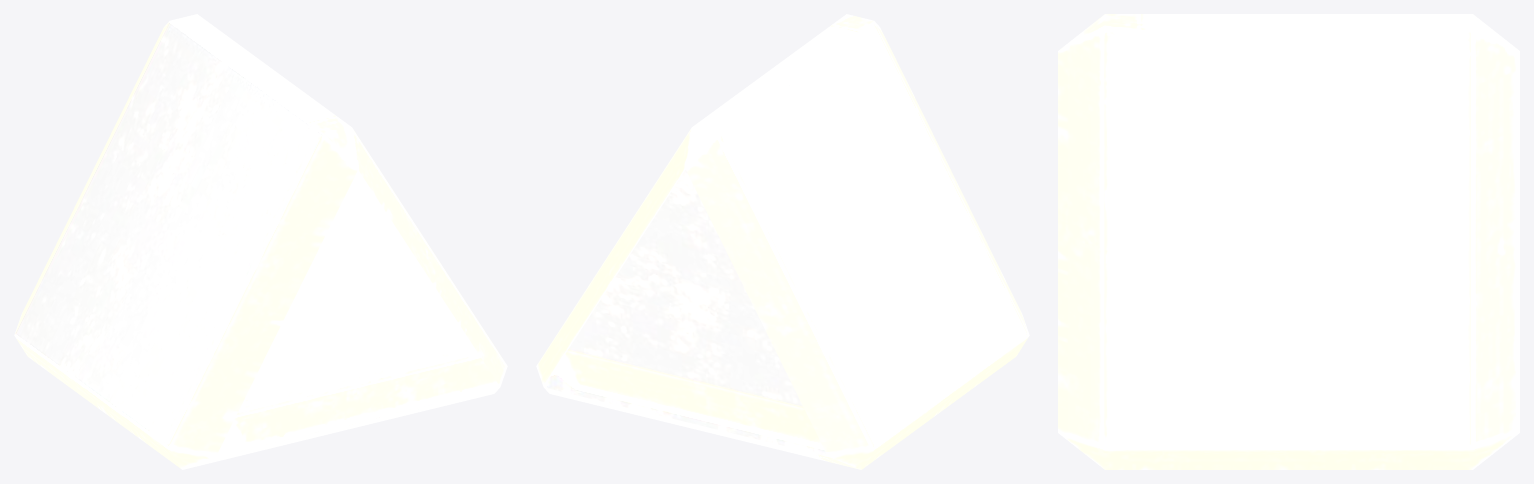
Rendered from defaulttrianglebarrier.glb.
3 views of the same model, side by side, from view 1: azimuth 30°, elevation 25°; view 2: azimuth 150°, elevation 25°; view 3: azimuth 270°, elevation 25° (orthographic). The views are drawn at different scales.
Visible parts, largest first — view 1: DefaultTriangleBarrier; view 2: DefaultTriangleBarrier; view 3: DefaultTriangleBarrier.
Part boxes in pixels (x1=…): DefaultTriangleBarrier: x1=14, y1=14, x2=507, y2=469; DefaultTriangleBarrier: x1=536, y1=14, x2=1029, y2=469; DefaultTriangleBarrier: x1=1058, y1=14, x2=1519, y2=469.
Bounding box in the file's own units: 1.99 × 1.69 × 1.98.
1 material, 1 textured.
